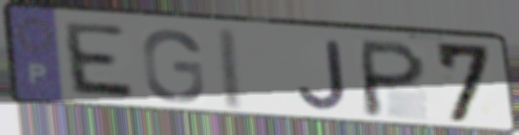7: (432, 40, 496, 126)
E: (63, 20, 140, 104)
G: (139, 27, 207, 105)
I: (219, 25, 247, 113)
J: (293, 37, 350, 113)
P: (359, 37, 429, 120)
